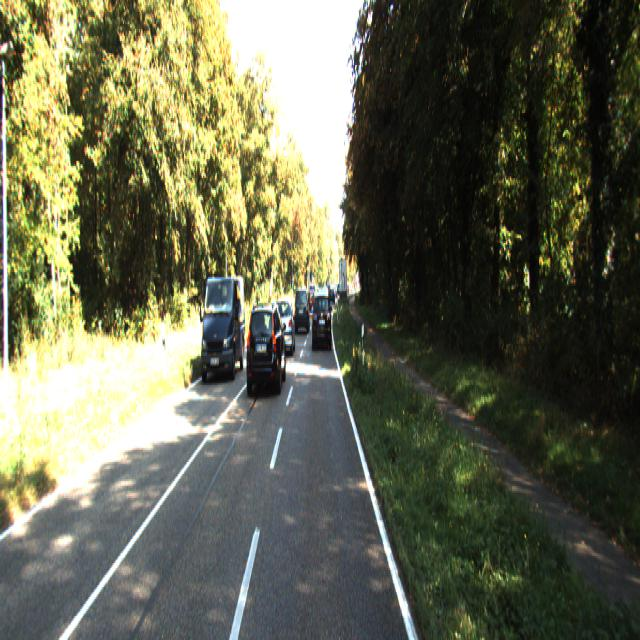Car: (201, 274, 246, 382), (244, 297, 286, 396), (273, 294, 295, 354), (312, 288, 331, 348), (293, 284, 309, 330)
